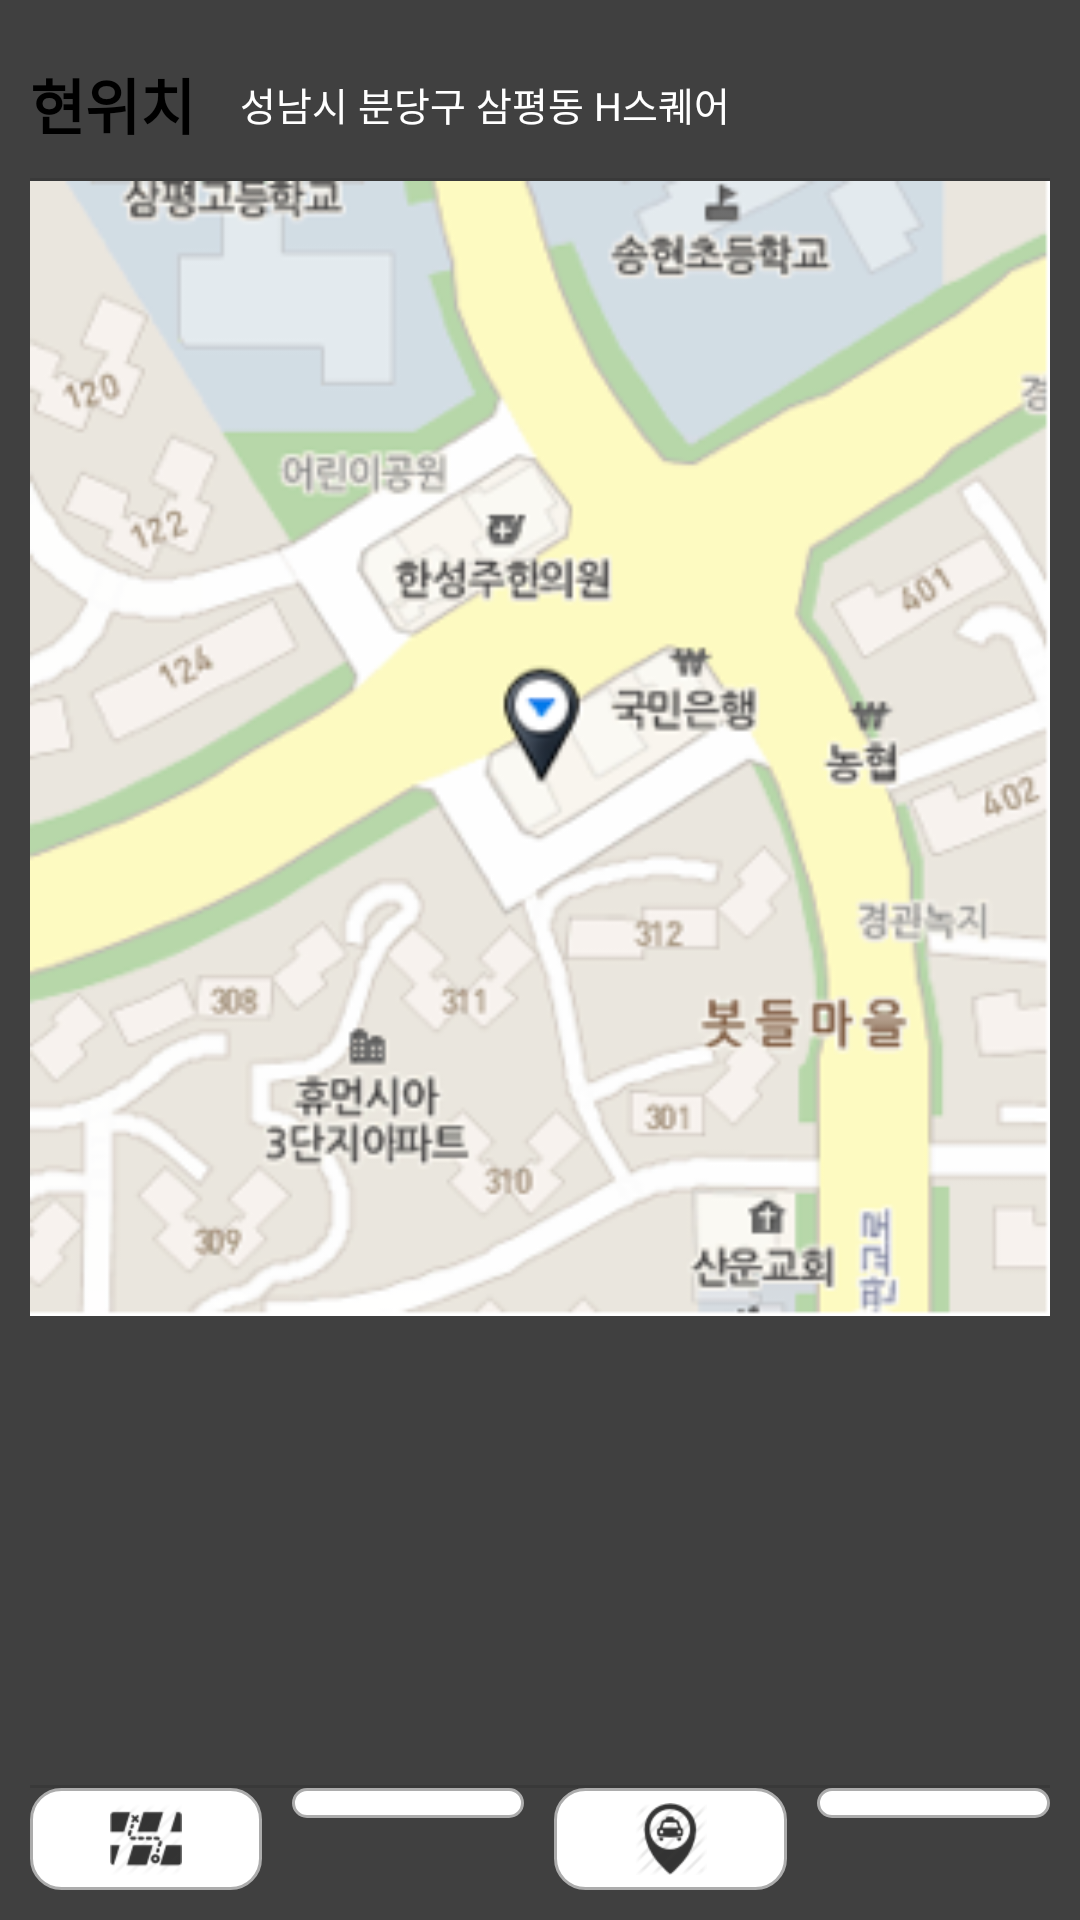

Icons on this 1080x1920 Android screen, each with the point to tap as point (x, y):
direction: point (146, 1839)
taxi: point (670, 1839)
